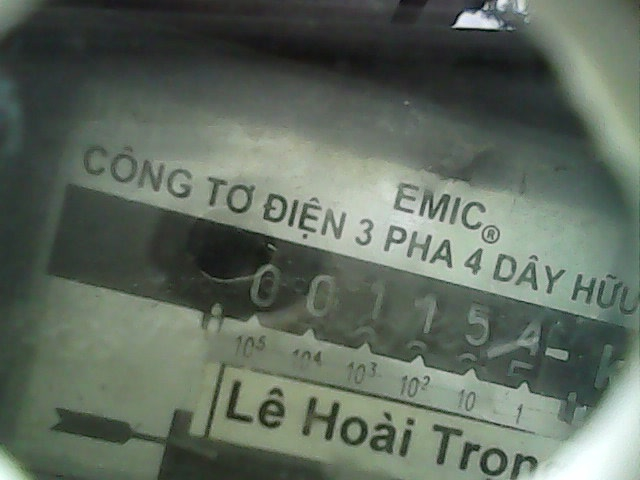phy_plate: (230, 226, 550, 399)
